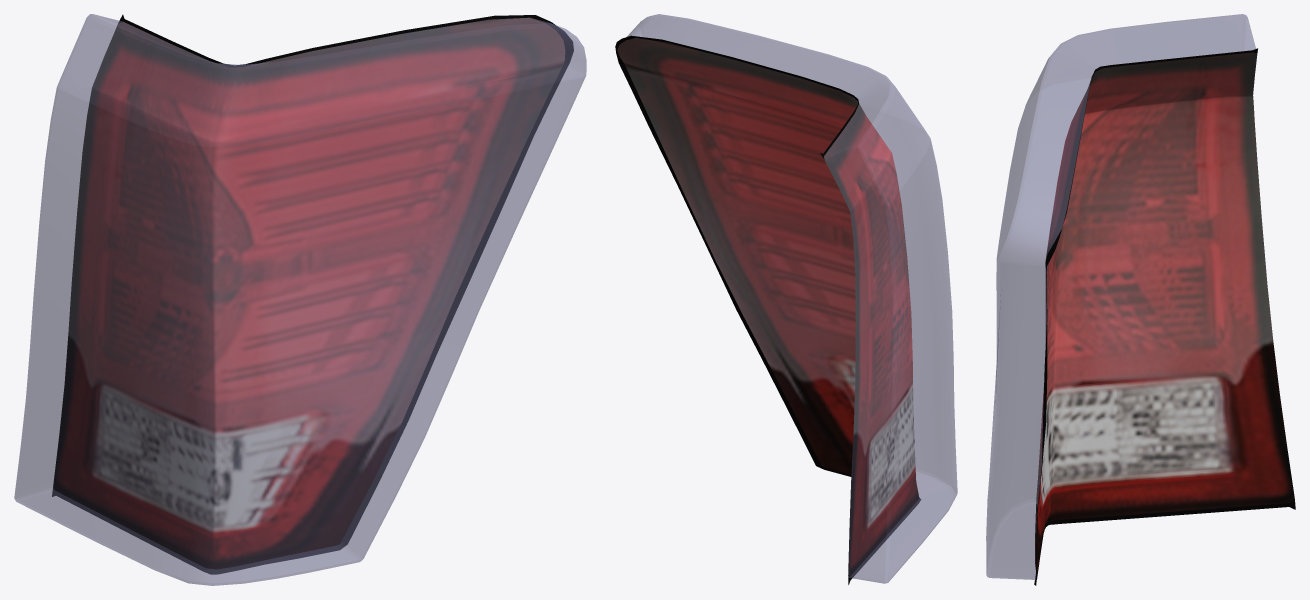
The picture shows the model from 3 angles, left to right: view 1: azimuth 30°, elevation 25°; view 2: azimuth 150°, elevation 25°; view 3: azimuth 270°, elevation 25°; orthographic projection. The views are drawn at different scales.
Visible parts, largest first — view 1: J732_541C_R_1_DTaSI_J732_541C_R, J732_541C_R_J732_541C_R_2_N, J732_541C_R_J732_541C_R_3_D; view 2: J732_541C_R_J732_541C_R_2_N, J732_541C_R_1_DTaSI_J732_541C_R, J732_541C_R_J732_541C_R_3_D; view 3: J732_541C_R_J732_541C_R_2_N, J732_541C_R_1_DTaSI_J732_541C_R, J732_541C_R_J732_541C_R_3_D.
Part boxes in pixels (<box>): J732_541C_R_1_DTaSI_J732_541C_R: <box>14,14,586,585</box>; J732_541C_R_J732_541C_R_2_N: <box>53,17,565,569</box>; J732_541C_R_J732_541C_R_3_D: <box>52,14,573,574</box>; J732_541C_R_J732_541C_R_2_N: <box>617,38,919,576</box>; J732_541C_R_1_DTaSI_J732_541C_R: <box>627,14,957,583</box>; J732_541C_R_J732_541C_R_3_D: <box>615,35,920,584</box>; J732_541C_R_J732_541C_R_2_N: <box>1035,52,1294,578</box>; J732_541C_R_1_DTaSI_J732_541C_R: <box>986,14,1255,579</box>; J732_541C_R_J732_541C_R_3_D: <box>1034,48,1295,585</box>.
Bounding box in the file's own units: 36.89 × 39.97 × 22.32.
